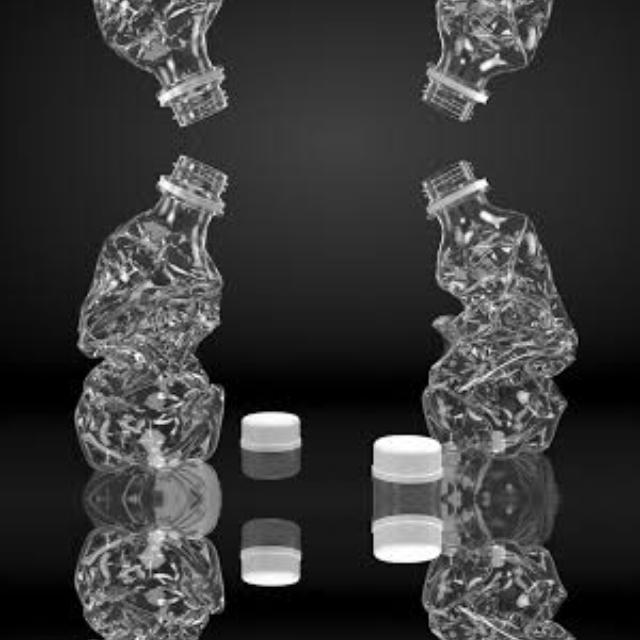Plastic: (356, 156, 588, 460), (51, 148, 237, 480), (355, 0, 588, 124), (51, 0, 237, 132), (355, 536, 588, 640), (51, 517, 237, 640), (364, 428, 458, 488), (364, 508, 458, 568), (233, 540, 319, 600), (233, 398, 319, 457)
